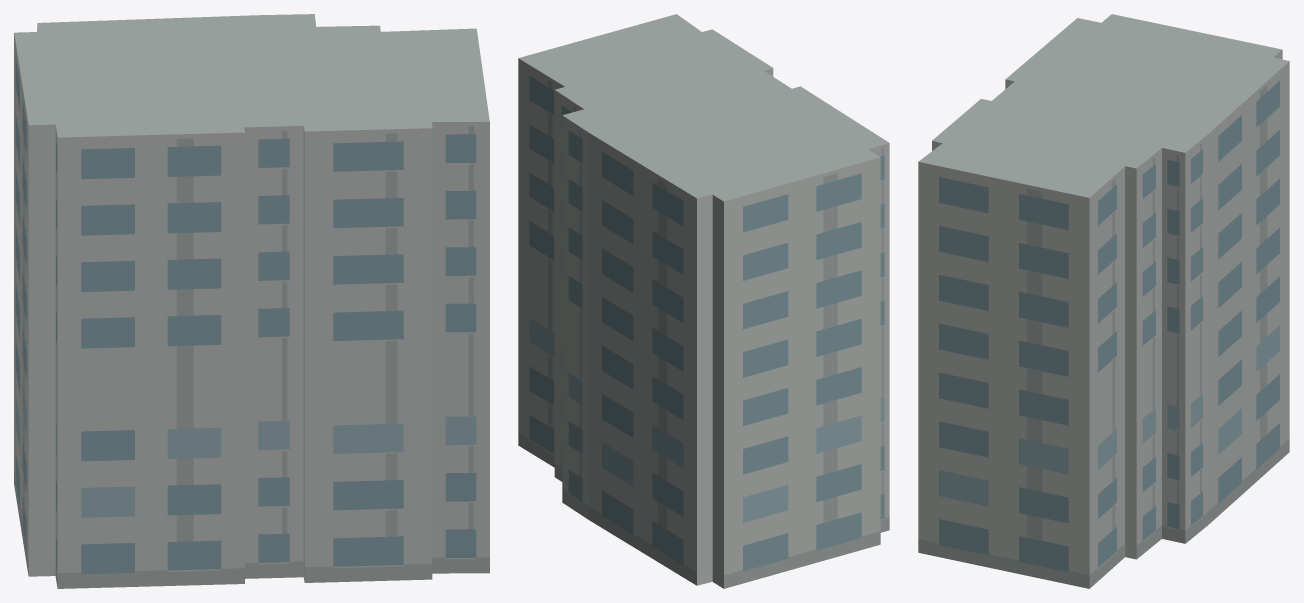
The model's file is residential-954f6813-63f8-4290-872e-9cdd6aa128a8.glb.
3 views of the same model, side by side, from view 1: azimuth 30°, elevation 25°; view 2: azimuth 150°, elevation 25°; view 3: azimuth 270°, elevation 25° (orthographic). The views are drawn at different scales.
Visible parts, largest first — view 1: residential-954f6813-63f8-4290-872e-9cdd6aa128a8.tmp; view 2: residential-954f6813-63f8-4290-872e-9cdd6aa128a8.tmp; view 3: residential-954f6813-63f8-4290-872e-9cdd6aa128a8.tmp.
Boxes of the visible parts, box(x1,y1,x2,y2) form: residential-954f6813-63f8-4290-872e-9cdd6aa128a8.tmp: box(14, 14, 489, 588); residential-954f6813-63f8-4290-872e-9cdd6aa128a8.tmp: box(518, 14, 889, 588); residential-954f6813-63f8-4290-872e-9cdd6aa128a8.tmp: box(918, 14, 1289, 588).
Bounding box in the file's own units: 24.63 × 24.4 × 21.02.
